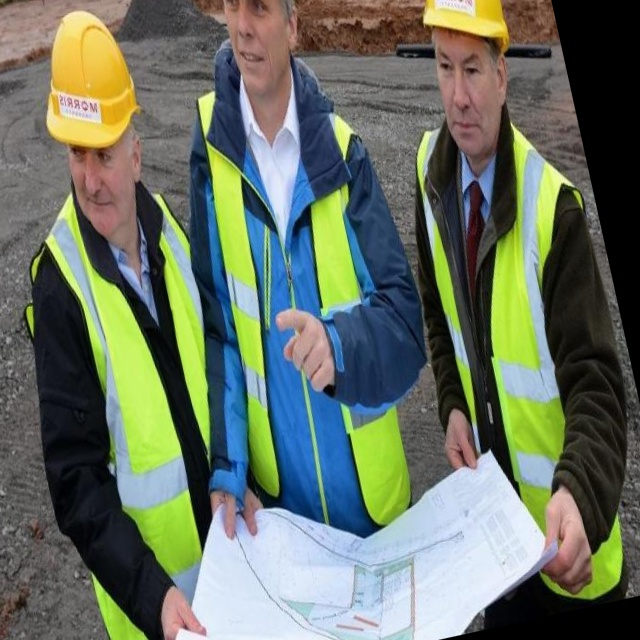Con_Casco: (24, 4, 157, 210), (406, 0, 527, 124), (198, 0, 317, 79)
Con_Chaleco: (165, 68, 427, 548), (8, 192, 272, 640), (408, 114, 640, 612)
